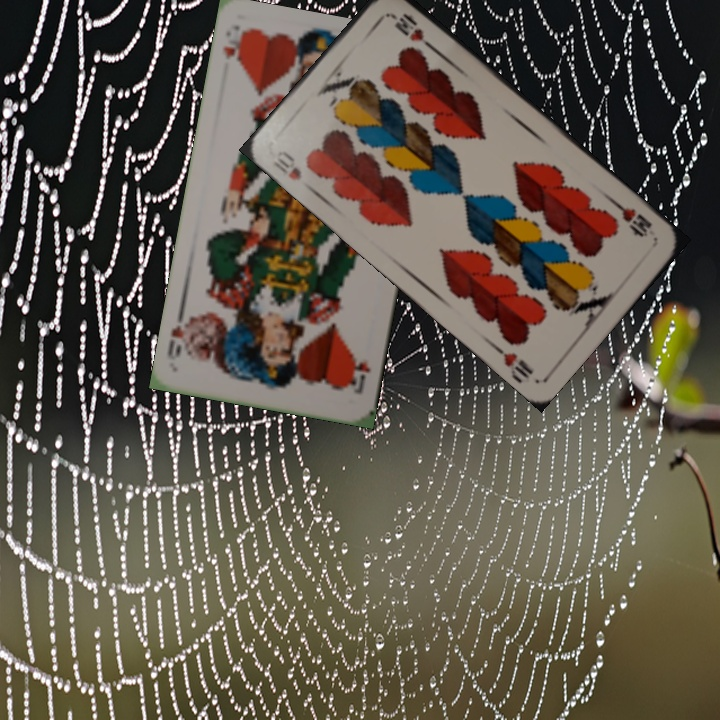H10: (609, 197, 655, 240), (268, 146, 305, 183)
HO: (345, 349, 373, 396), (219, 26, 248, 68)
